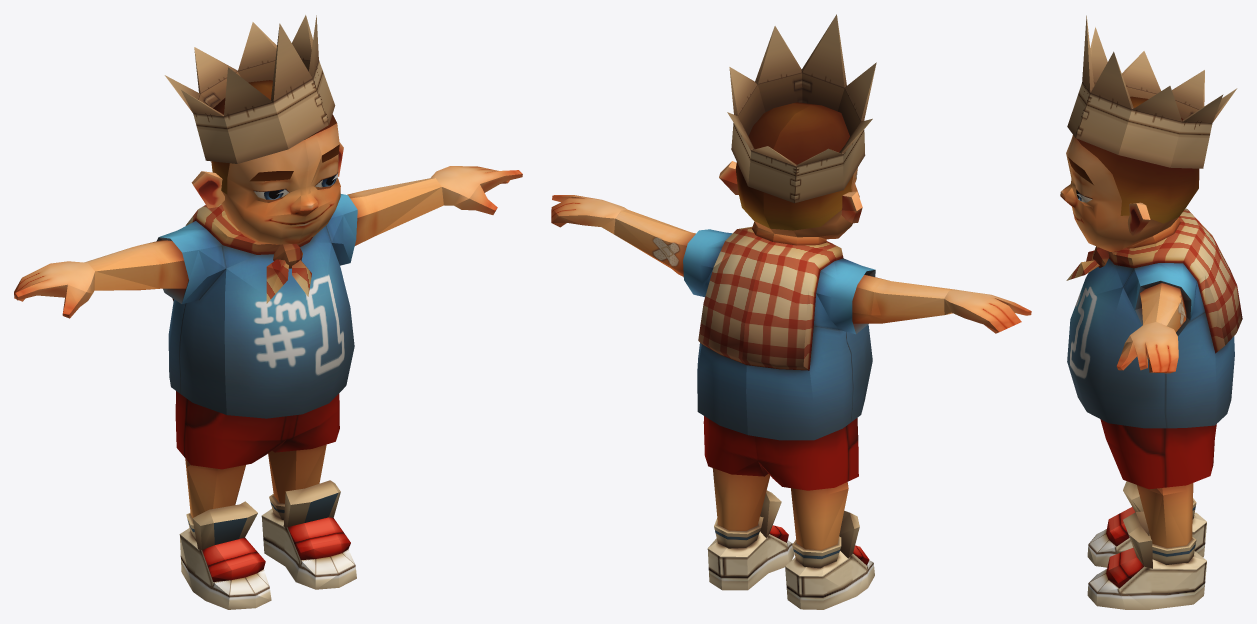
File: subway_surfers_-_king.glb
3 views of the same model, side by side, from view 1: azimuth 30°, elevation 25°; view 2: azimuth 150°, elevation 25°; view 3: azimuth 270°, elevation 25° (orthographic). The views are drawn at different scales.
Parts seen in each view (by area): view 1: Object_2; view 2: Object_2; view 3: Object_2.
Boxes of the visible parts, x1=… form: Object_2: x1=14, y1=15, x2=522, y2=609; Object_2: x1=551, y1=14, x2=1031, y2=609; Object_2: x1=1060, y1=15, x2=1242, y2=609.
Bounding box in the file's own units: 10.08 × 11.06 × 3.3.
1 material, 1 textured.
